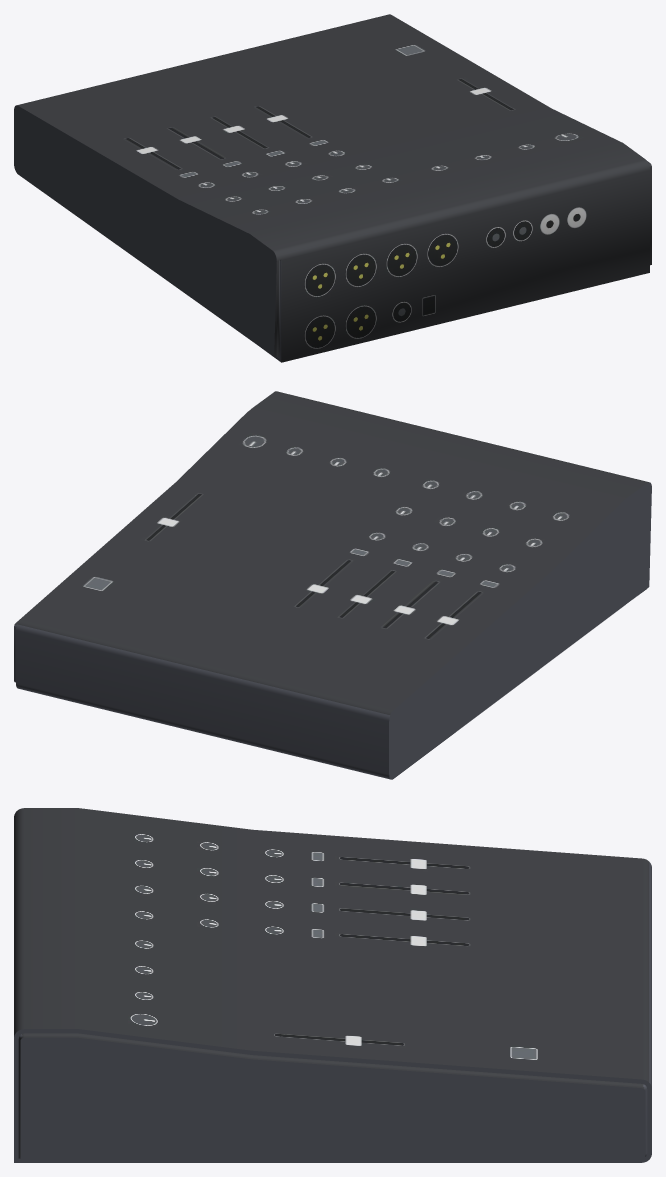
The model's file is yamaha-mg10xu.glb.
3 renders of one model, top to bottom at view 1: azimuth 30°, elevation 25°; view 2: azimuth 150°, elevation 25°; view 3: azimuth 270°, elevation 25°, orthographic. The views are drawn at different scales.
Visible parts, largest first — view 1: yamaha-mg10xu-body; view 2: yamaha-mg10xu-body; view 3: yamaha-mg10xu-body.
Boxes of the visible parts, x1=… form: yamaha-mg10xu-body: x1=14, y1=14, x2=651, y2=362; yamaha-mg10xu-body: x1=14, y1=391, x2=651, y2=779; yamaha-mg10xu-body: x1=14, y1=808, x2=651, y2=1162.
Bounding box in the file's own units: 0.244 × 0.071 × 0.294.
Materials: 1 (1 with a texture image).
